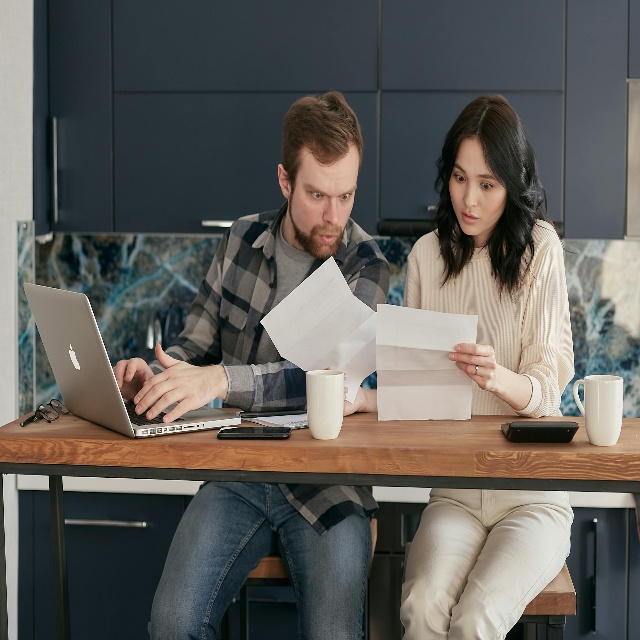Gafas: (32, 397, 69, 423)
Sin_guantes: (134, 343, 219, 423), (447, 339, 497, 393), (112, 357, 157, 404), (324, 366, 365, 416)
